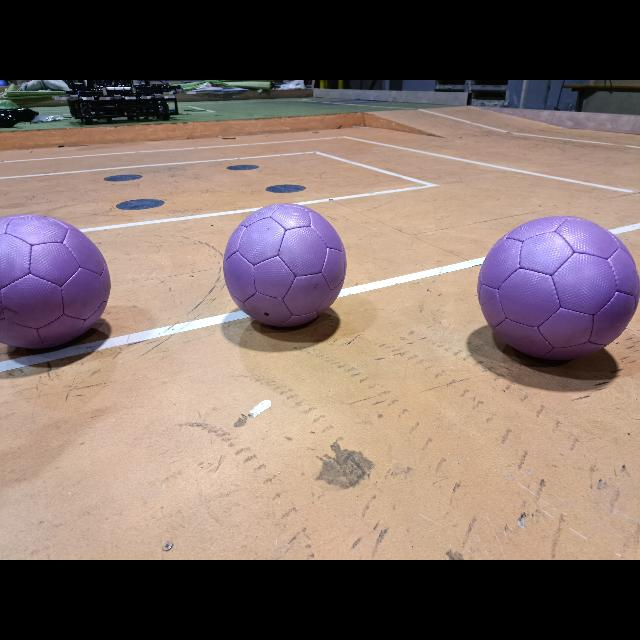P: (478, 216, 640, 360), (224, 204, 346, 326), (0, 215, 110, 348)
